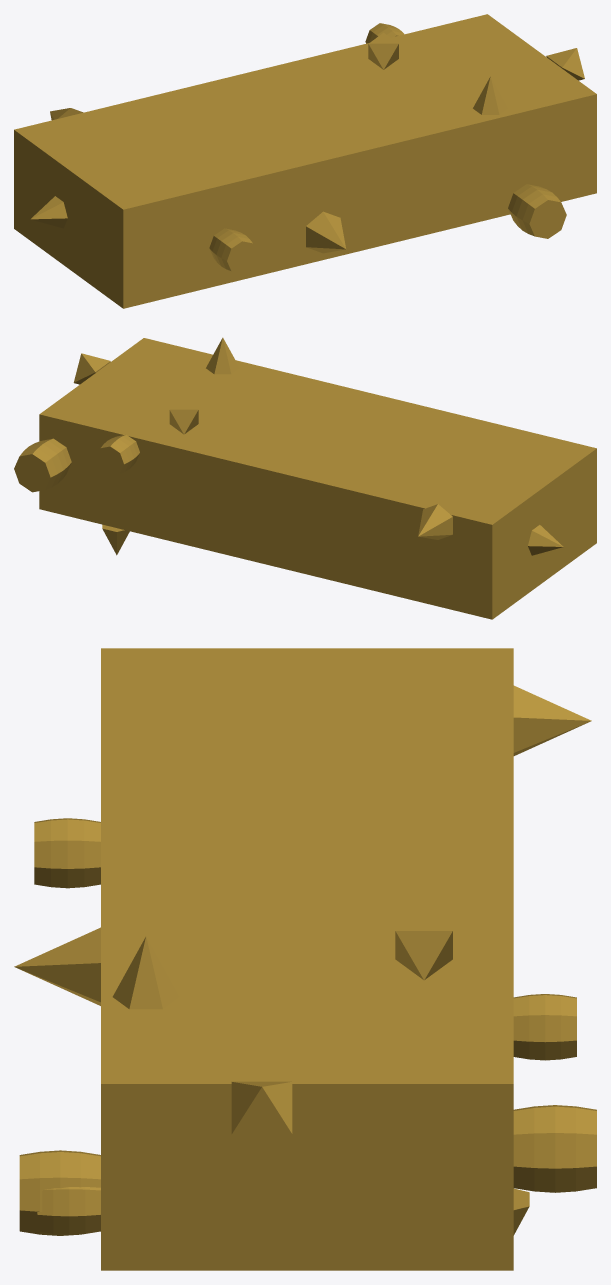
3 renders of one model, top to bottom at view 1: azimuth 30°, elevation 25°; view 2: azimuth 150°, elevation 25°; view 3: azimuth 270°, elevation 25°, orthographic. The views are drawn at different scales.
Parts seen in each view (by area): view 1: object04_high; view 2: object04_high; view 3: object04_high.
Boxes of the visible parts, x1=… form: object04_high: x1=14, y1=14, x2=596, y2=308; object04_high: x1=14, y1=337, x2=596, y2=619; object04_high: x1=14, y1=648, x2=596, y2=1270.
Bounding box in the file's own units: 5.55 × 1.65 × 2.83.
